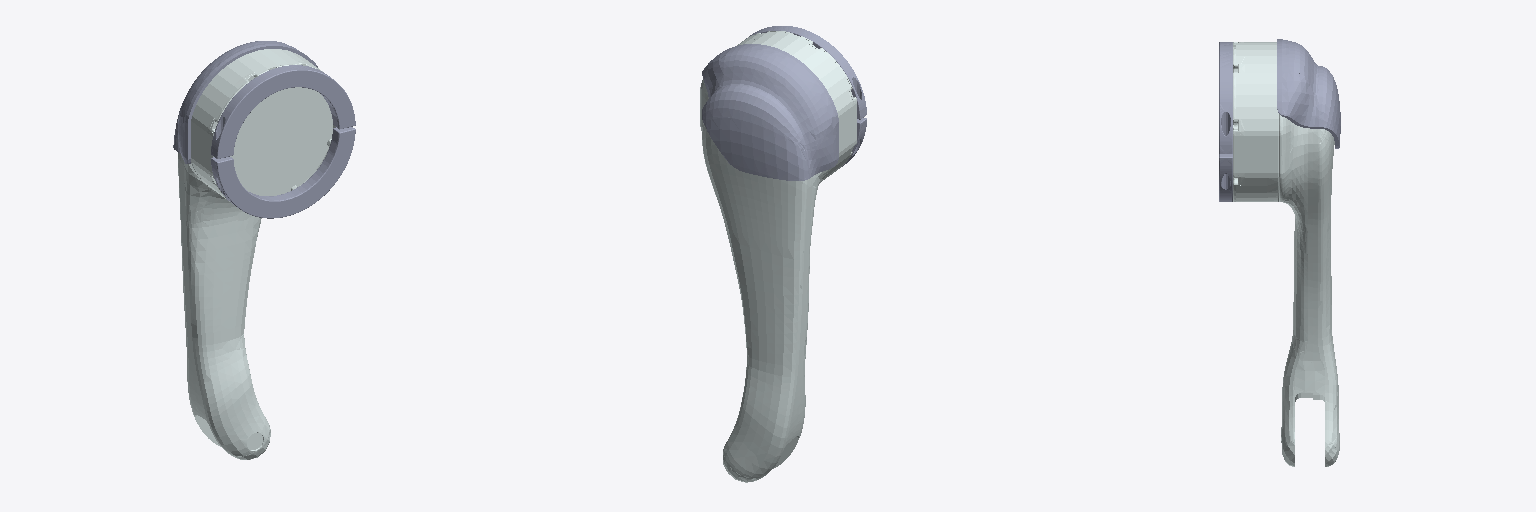
The model's file is thigh.obj.
3 renders of one model, left to right at view 1: azimuth 30°, elevation 25°; view 2: azimuth 150°, elevation 25°; view 3: azimuth 270°, elevation 25°, orthographic.
Visible parts, largest first — view 1: thigh_001-mesh; view 2: thigh_001-mesh; view 3: thigh_001-mesh.
Boxes of the visible parts, <box> form: thigh_001-mesh: <box>173,41,355,459</box>; thigh_001-mesh: <box>700,26,866,482</box>; thigh_001-mesh: <box>1219,39,1340,466</box>.
Bounding box in the file's own units: 0.0969 × 0.2779 × 0.0734.